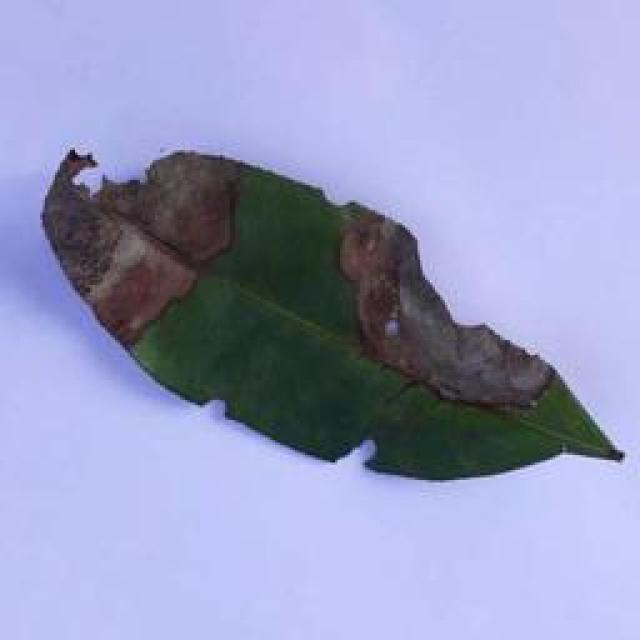Gray Blight: (37, 152, 621, 486)
